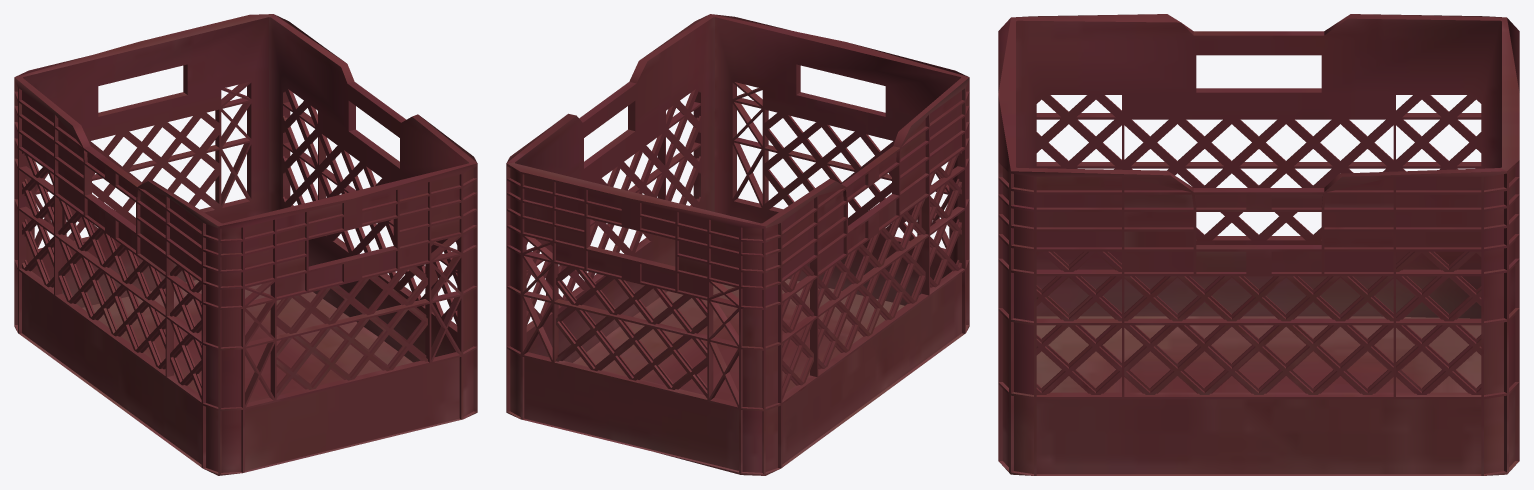
File: plastic_crate_01.glb
3 renders of one model, left to right at view 1: azimuth 30°, elevation 25°; view 2: azimuth 150°, elevation 25°; view 3: azimuth 270°, elevation 25°, orthographic. The views are drawn at different scales.
Parts seen in each view (by area): view 1: plastic_crate_01; view 2: plastic_crate_01; view 3: plastic_crate_01.
Boxes of the visible parts, x1,y1,x2,y2 form: plastic_crate_01: (14,14,477,475); plastic_crate_01: (506,14,969,475); plastic_crate_01: (998,14,1519,475).
Bounding box in the file's own units: 0.298 × 0.2641 × 0.408.
Materials: 1 (1 with a texture image).
